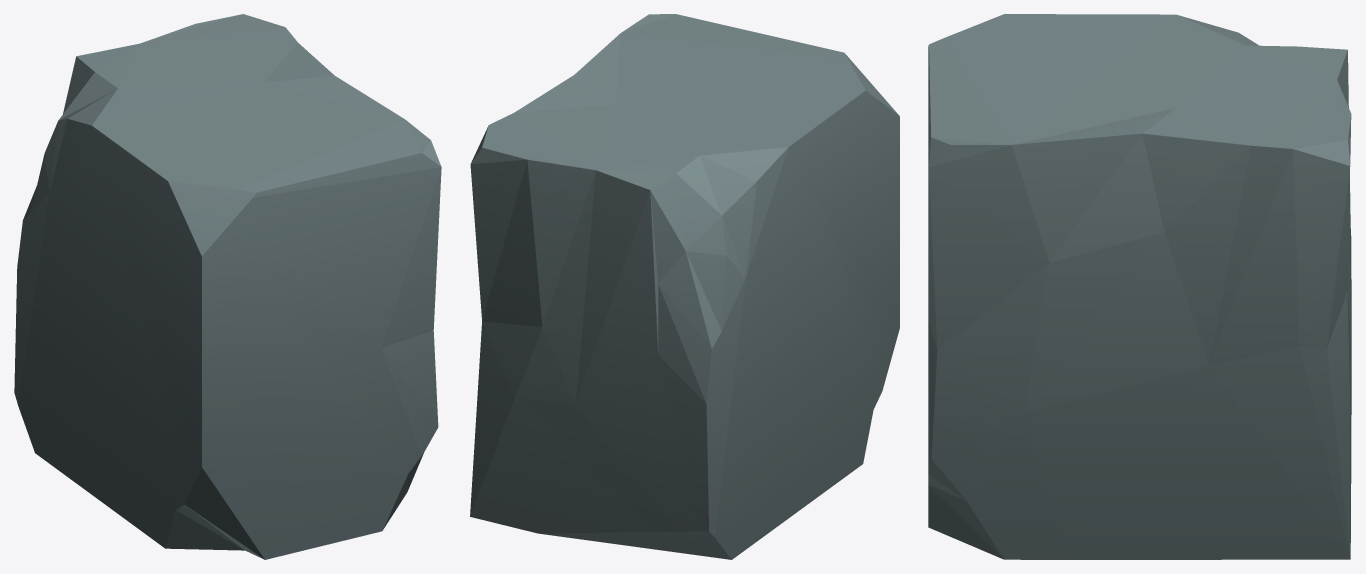
File: BigRock_04.fbx
3 views of the same model, side by side, from view 1: azimuth 30°, elevation 25°; view 2: azimuth 150°, elevation 25°; view 3: azimuth 270°, elevation 25° (orthographic). The views are drawn at different scales.
Visible parts, largest first — view 1: BigRock_04; view 2: BigRock_04; view 3: BigRock_04.
Part boxes in pixels (x1,y1,x2,y2): BigRock_04: [14, 14, 441, 559]; BigRock_04: [470, 14, 899, 559]; BigRock_04: [928, 14, 1351, 559].
Size of the model in its own units: 3.26 by 4.73 by 4.33.
